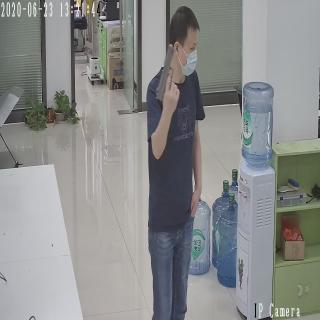gun: (155, 41, 179, 104)
